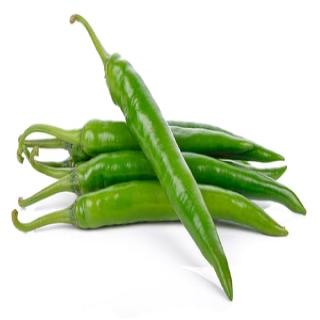Cabai Hijau: (69, 13, 235, 302)
